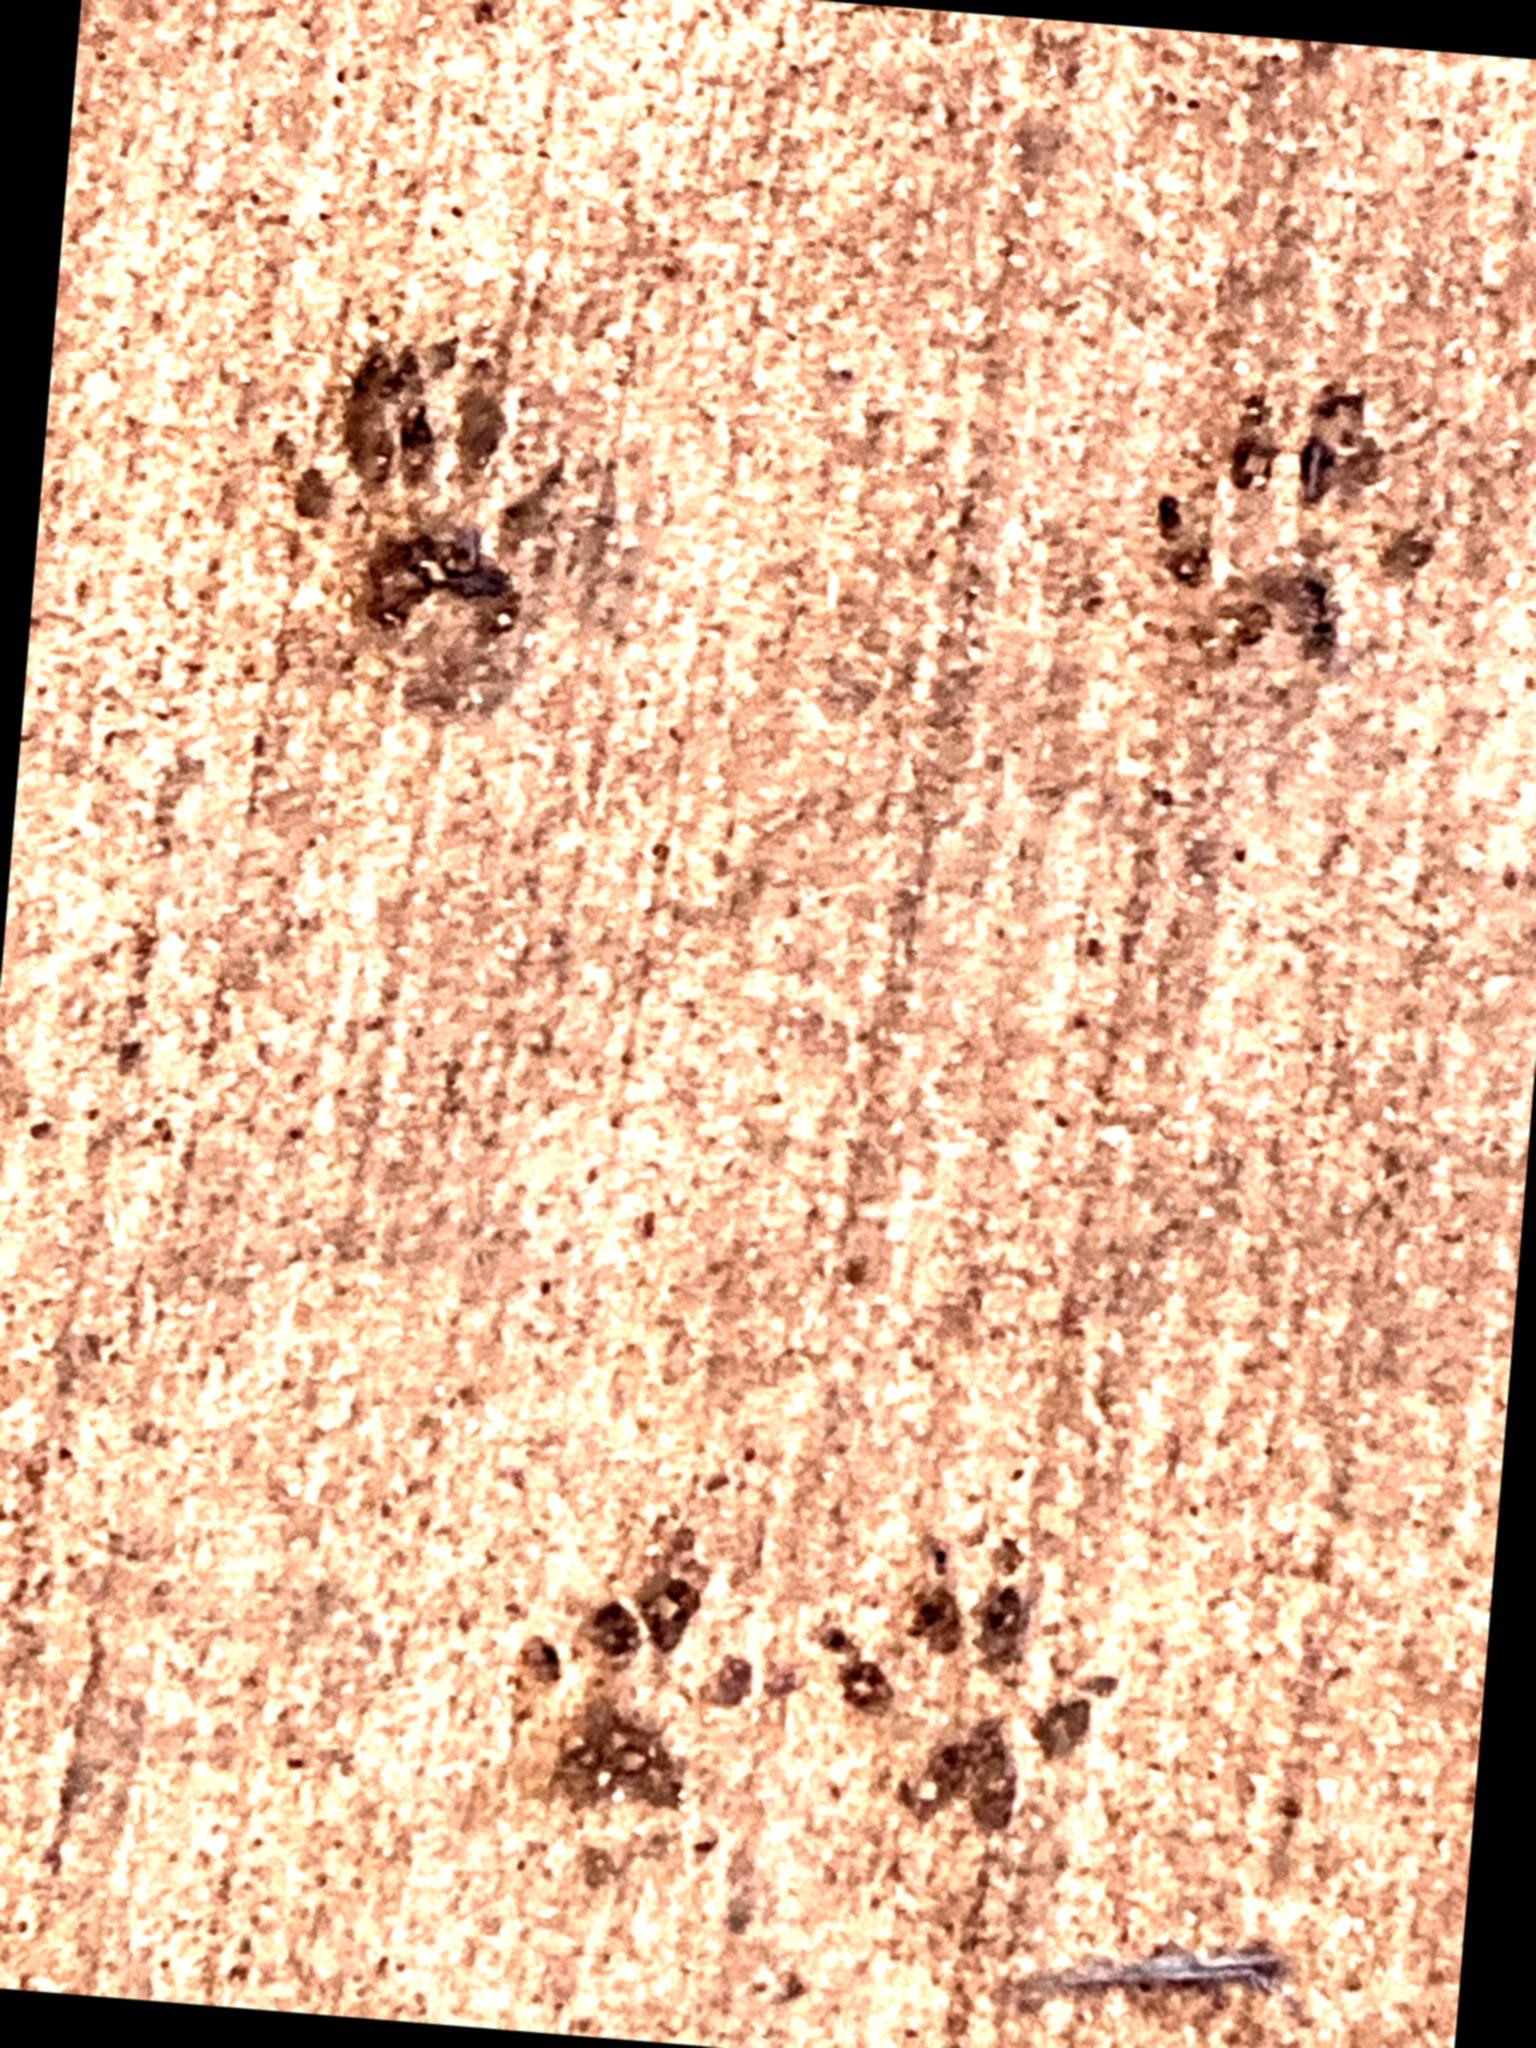ecureuil: (202, 308, 611, 761), (1049, 305, 1471, 731), (505, 1492, 824, 1998), (858, 1438, 1212, 1892)
